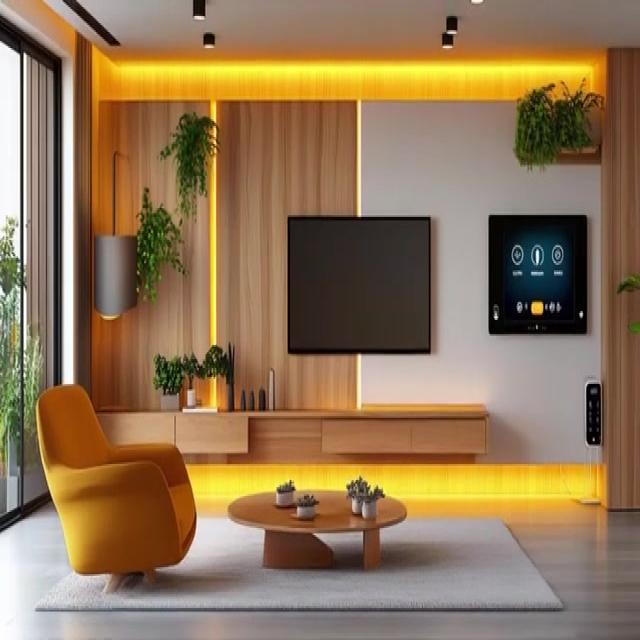obstacle: (35, 382, 197, 594), (198, 408, 488, 458), (227, 489, 406, 569)
